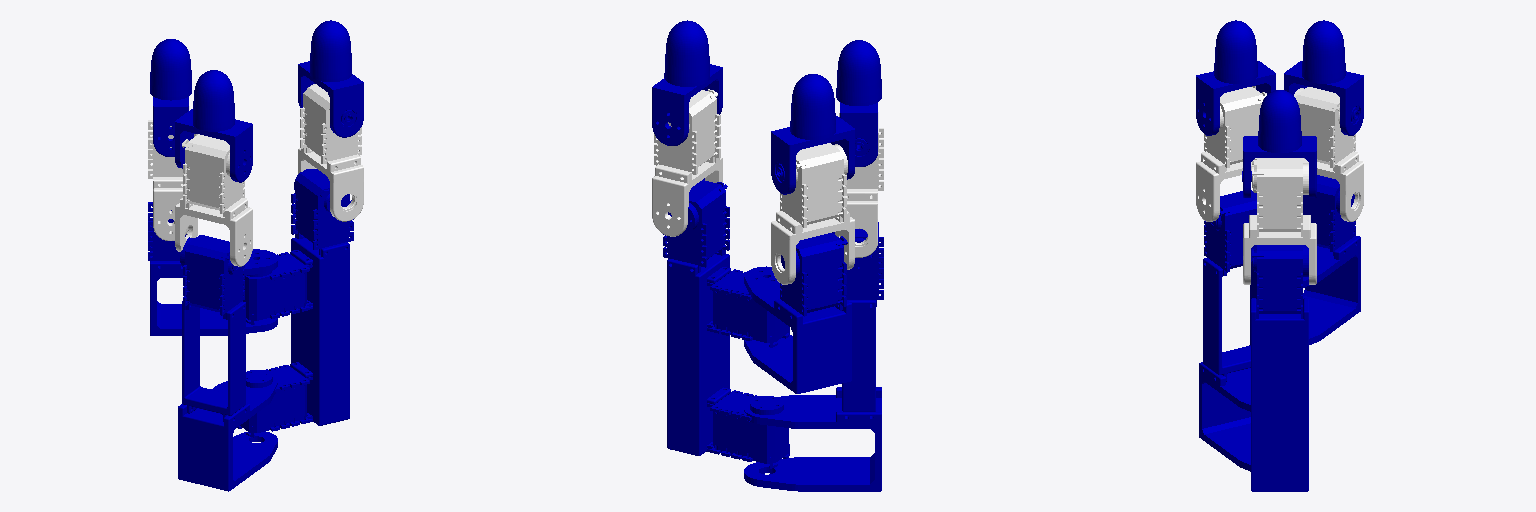
URDF robot description (p_hand):
<?xml version="1.0" ?>
<!-- =================================================================================== -->
<!-- |    This document was autogenerated by xacro from p_hand.urdf.xacro              | -->
<!-- |    EDITING THIS FILE BY HAND IS NOT RECOMMENDED                                 | -->
<!-- =================================================================================== -->
<robot name="p_hand" xmlns:xacro="http://www.ros.org/wiki/xacro">
  <!-- 
=================
DEFINITIONS
=================
 -->
  <!-- 
=================
ROBOT DESCRIPTION
=================
 -->
  <!-- LINKS -->
  <!-- Base and swivels -->
  <link name="base_link">
    <visual>
      <geometry>
        <mesh filename="package://p_hand_description/meshes/base_link.STL"/>
      </geometry>
      <origin rpy="0 0 0" xyz="-0.0115 0 -0.127"/>
      <material name="blue">
        <color rgba="0 0 .8 1"/>
      </material>
    </visual>
    <collision>
      <geometry>
        <mesh filename="package://p_hand_description/meshes/base_link.STL"/>
      </geometry>
      <origin rpy="0 0 0" xyz="-0.0115 0 -0.127"/>
    </collision>
    <inertial>
      <origin rpy="0 0 0" xyz="0.050416 0.000105 0.080742"/>
      <mass value="0.1"/>
      <!-- TODO -->
      <inertia ixx="0.4" ixy="0.0" ixz="0.0" iyy="0.4" iyz="0.0" izz="0.2"/>
    </inertial>
  </link>
  <link name="swivel1">
    <visual>
      <geometry>
        <mesh filename="package://p_hand_description/meshes/swivel1.STL"/>
      </geometry>
      <origin rpy="0 0 0" xyz="0 0 -0.045"/>
      <material name="blue">
        <color rgba="0 0 .8 1"/>
      </material>
    </visual>
    <collision>
      <geometry>
        <mesh filename="package://p_hand_description/meshes/swivel1.STL"/>
      </geometry>
      <origin rpy="0 0 0" xyz="0 0 -0.045"/>
    </collision>
  </link>
  <link name="swivel2">
    <visual>
      <geometry>
        <mesh filename="package://p_hand_description/meshes/swivel2.STL"/>
      </geometry>
      <origin rpy="0 0 0" xyz="0 0 -0.140"/>
      <material name="blue">
        <color rgba="0 0 .8 1"/>
      </material>
    </visual>
    <collision>
      <geometry>
        <mesh filename="package://p_hand_description/meshes/swivel2.STL"/>
      </geometry>
      <origin rpy="0 0 0" xyz="0 0 -0.140"/>
    </collision>
  </link>
  <link name="lower0">
    <visual>
      <geometry>
        <mesh filename="package://p_hand_description/meshes/lower.STL"/>
      </geometry>
      <origin rpy="0 0 0" xyz="0 0 -0.025"/>
      <material name="white">
        <color rgba="1 1 1 1"/>
      </material>
    </visual>
    <collision>
      <geometry>
        <mesh filename="package://p_hand_description/meshes/lower.STL"/>
      </geometry>
      <origin rpy="0 0 0" xyz="0 0 -0.025"/>
    </collision>
  </link>
  <link name="lower1">
    <visual>
      <geometry>
        <mesh filename="package://p_hand_description/meshes/lower.STL"/>
      </geometry>
      <origin rpy="0 0 0" xyz="0 0 -0.025"/>
      <material name="white">
        <color rgba="1 1 1 1"/>
      </material>
    </visual>
    <collision>
      <geometry>
        <mesh filename="package://p_hand_description/meshes/lower.STL"/>
      </geometry>
      <origin rpy="0 0 0" xyz="0 0 -0.025"/>
    </collision>
  </link>
  <link name="lower2">
    <visual>
      <geometry>
        <mesh filename="package://p_hand_description/meshes/lower.STL"/>
      </geometry>
      <origin rpy="0 0 0" xyz="0 0 -0.025"/>
      <material name="white">
        <color rgba="1 1 1 1"/>
      </material>
    </visual>
    <collision>
      <geometry>
        <mesh filename="package://p_hand_description/meshes/lower.STL"/>
      </geometry>
      <origin rpy="0 0 0" xyz="0 0 -0.025"/>
    </collision>
  </link>
  <link name="upper0">
    <visual>
      <geometry>
        <mesh filename="package://p_hand_description/meshes/upper.STL"/>
      </geometry>
      <origin rpy="0 0 0" xyz="0 0 -0.025"/>
      <material name="blue">
        <color rgba="0 0 .8 1"/>
      </material>
    </visual>
    <collision>
      <geometry>
        <mesh filename="package://p_hand_description/meshes/upper.STL"/>
      </geometry>
      <origin rpy="0 0 0" xyz="0 0 -0.025"/>
    </collision>
  </link>
  <link name="upper1">
    <visual>
      <geometry>
        <mesh filename="package://p_hand_description/meshes/upper.STL"/>
      </geometry>
      <origin rpy="0 0 0" xyz="0 0 -0.025"/>
      <material name="blue">
        <color rgba="0 0 .8 1"/>
      </material>
    </visual>
    <collision>
      <geometry>
        <mesh filename="package://p_hand_description/meshes/upper.STL"/>
      </geometry>
      <origin rpy="0 0 0" xyz="0 0 -0.025"/>
    </collision>
  </link>
  <link name="upper2">
    <visual>
      <geometry>
        <mesh filename="package://p_hand_description/meshes/upper.STL"/>
      </geometry>
      <origin rpy="0 0 0" xyz="0 0 -0.025"/>
      <material name="blue">
        <color rgba="0 0 .8 1"/>
      </material>
    </visual>
    <collision>
      <geometry>
        <mesh filename="package://p_hand_description/meshes/upper.STL"/>
      </geometry>
      <origin rpy="0 0 0" xyz="0 0 -0.025"/>
    </collision>
  </link>
  <!-- Tips -->
  <link name="tip0"/>
  <link name="tip1"/>
  <link name="tip2"/>
  <!-- JOINTS -->
  <!-- Base and swivels -->
  <joint name="base_link_swivel1" type="revolute">
    <parent link="base_link"/>
    <child link="swivel1"/>
    <limit effort="1000.0" lower="1.047198" upper="4.188792" velocity="0.5"/>
    <origin rpy="0 0 0" xyz="0 0 0"/>
    <axis xyz="0 0 1"/>
  </joint>
  <joint name="base_link_swivel2" type="revolute">
    <parent link="base_link"/>
    <child link="swivel2"/>
    <limit effort="1000.0" lower="2.094396" upper="5.23599" velocity="0.5"/>
    <origin rpy="0 0 0" xyz="0 0 0"/>
    <axis xyz="0 0 1"/>
  </joint>
  <joint name="base_link_lower0" type="revolute">
    <parent link="base_link"/>
    <child link="lower0"/>
    <limit effort="1000.0" lower="-1.570797" upper="0.872665" velocity="0.5"/>
    <origin rpy="1.5708  0 0" xyz="0.06 0 0.045"/>
    <axis xyz="0 0 1"/>
  </joint>
  <joint name="swivel1_lower1" type="revolute">
    <parent link="swivel1"/>
    <child link="lower1"/>
    <limit effort="1000.0" lower="-1.570797" upper="0.872665" velocity="0.5"/>
    <origin rpy="1.5708  0 0" xyz="0.06 0 0.045"/>
    <axis xyz="0 0 1"/>
  </joint>
  <joint name="swivel2_lower2" type="revolute">
    <parent link="swivel2"/>
    <child link="lower2"/>
    <limit effort="1000.0" lower="-1.570797" upper="0.872665" velocity="0.5"/>
    <origin rpy="1.5708  0 0" xyz="0.06 0 0.045"/>
    <axis xyz="0 0 1"/>
  </joint>
  <joint name="lower0_upper0" type="revolute">
    <parent link="lower0"/>
    <child link="upper0"/>
    <limit effort="1000.0" lower="-1.570797" upper="1.74533" velocity="0.5"/>
    <origin rpy="0  0 0" xyz="0 0.065 0"/>
    <axis xyz="0 0 1"/>
  </joint>
  <joint name="lower1_upper1" type="revolute">
    <parent link="lower1"/>
    <child link="upper1"/>
    <limit effort="1000.0" lower="-1.570797" upper="1.74533" velocity="0.5"/>
    <origin rpy="0  0 0" xyz="0 0.065 0"/>
    <axis xyz="0 0 1"/>
  </joint>
  <joint name="lower2_upper2" type="revolute">
    <parent link="lower2"/>
    <child link="upper2"/>
    <limit effort="1000.0" lower="-1.570797" upper="1.74533" velocity="0.5"/>
    <origin rpy="0  0 0" xyz="0 0.065 0"/>
    <axis xyz="0 0 1"/>
  </joint>
  <joint name="upper0_tip0" type="fixed">
    <parent link="upper0"/>
    <child link="tip0"/>
    <origin rpy="0  0 0" xyz="-0.007 0.062 0"/>
  </joint>
  <joint name="upper1_tip1" type="fixed">
    <parent link="upper1"/>
    <child link="tip1"/>
    <origin rpy="0  0 0" xyz="-0.007 0.062 0"/>
  </joint>
  <joint name="upper2_tip2" type="fixed">
    <parent link="upper2"/>
    <child link="tip2"/>
    <origin rpy="0  0 0" xyz="-0.007 0.062 0"/>
  </joint>
</robot>

--- What the picture shows (computed from the rendered views, not written in the file) ---
3 views of the same robot in one strip: view 1: azimuth 30°, elevation 25°; view 2: azimuth 150°, elevation 25°; view 3: azimuth 270°, elevation 25° (orthographic).
Model p_hand with 12 links and 11 joints (8 revolute, 3 fixed), rooted at base_link, posed all joints at 0 but 2 set to mid-range because 0 is outside their limits (base_link_swivel1 = 2.62, base_link_swivel2 = 3.67).
Links seen in each view (by area): view 1: base_link, swivel2, lower2, lower0, upper0, upper2, swivel1, upper1, lower1; view 2: base_link, swivel2, swivel1, lower1, lower0, upper0, upper1, upper2, lower2; view 3: base_link, swivel2, swivel1, lower0, lower2, lower1, upper2, upper1, upper0.
Link boxes in pixels (box(x1,y1,x2,y2)): base_link: box(237, 169, 353, 437); swivel2: box(178, 235, 277, 491); lower2: box(175, 134, 252, 266); lower0: box(298, 84, 363, 221); upper0: box(298, 20, 363, 137); upper2: box(175, 70, 252, 182); swivel1: box(148, 202, 277, 335); upper1: box(150, 39, 191, 156); lower1: box(148, 106, 189, 240); base_link: box(663, 178, 789, 468); swivel2: box(744, 222, 883, 491); swivel1: box(744, 232, 851, 393); lower1: box(771, 143, 854, 284); lower0: box(652, 89, 722, 236); upper0: box(652, 20, 722, 145); upper1: box(771, 74, 854, 194); upper2: box(836, 40, 881, 166); lower2: box(839, 112, 883, 257); base_link: box(1251, 245, 1308, 491); swivel2: box(1199, 190, 1256, 471); swivel1: box(1303, 175, 1360, 344); lower0: box(1243, 158, 1316, 284); lower2: box(1196, 86, 1266, 221); lower1: box(1294, 87, 1363, 221); upper2: box(1196, 20, 1275, 135); upper1: box(1284, 20, 1363, 135); upper0: box(1242, 90, 1316, 197).
Size in the robot's own frame: 0.1511 by 0.1151 by 0.3141 metres.
9 mesh visuals loaded from 5 distinct referenced files (5 binary STL).